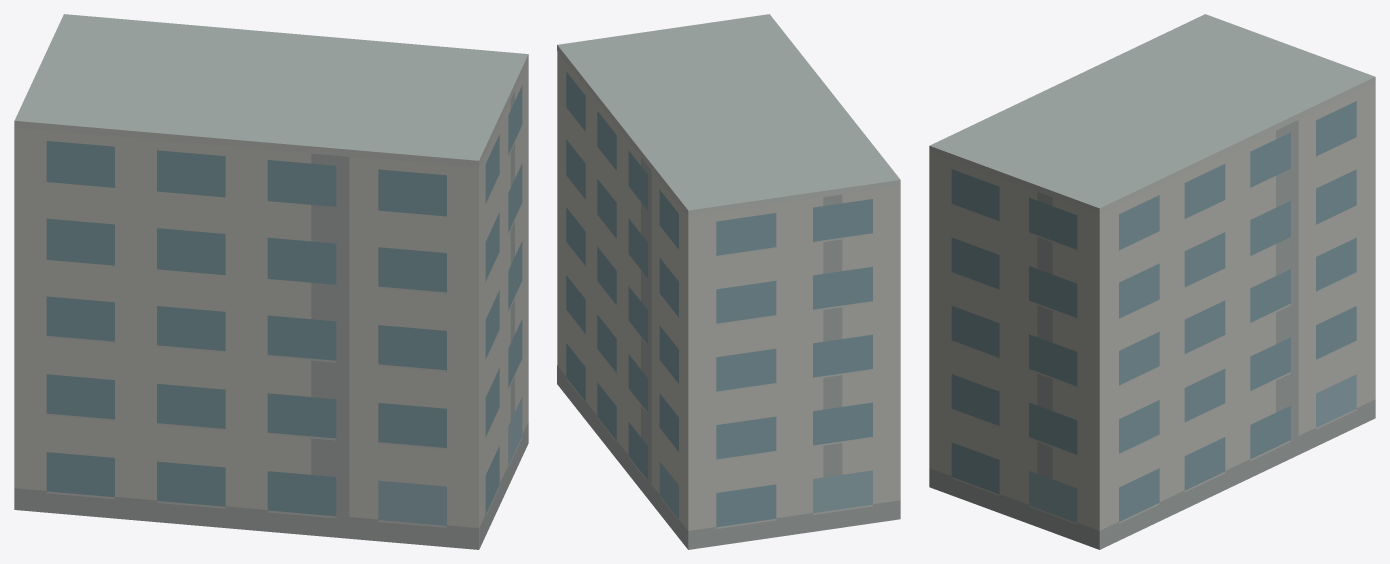
File: survey-upis-32887731.glb
The picture shows the model from 3 angles, left to right: view 1: azimuth 30°, elevation 25°; view 2: azimuth 150°, elevation 25°; view 3: azimuth 270°, elevation 25°; orthographic projection. The views are drawn at different scales.
Parts seen in each view (by area): view 1: survey-upis-32887731.tmp; view 2: survey-upis-32887731.tmp; view 3: survey-upis-32887731.tmp.
Part boxes in pixels (x1,y1,x2,y2): survey-upis-32887731.tmp: (14,14,528,549); survey-upis-32887731.tmp: (557,14,900,549); survey-upis-32887731.tmp: (929,14,1375,549).
Size of the model in its own units: 16.12 by 13.2 by 15.64.
